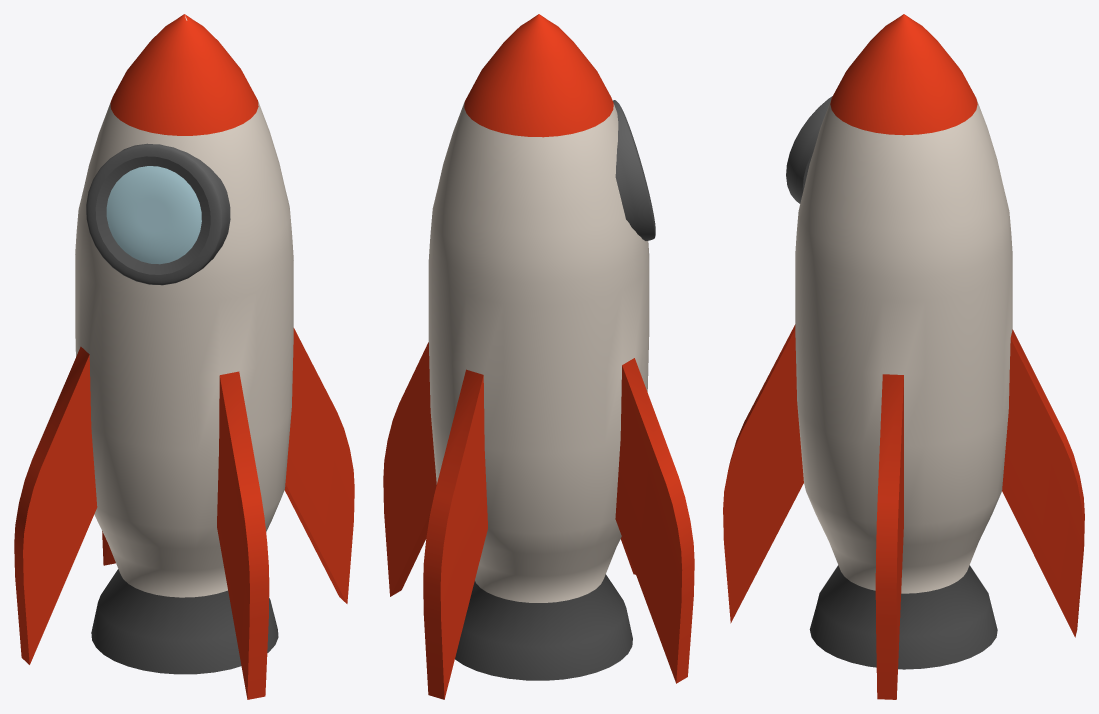
File: rocket.fbx
The picture shows the model from 3 angles, left to right: view 1: azimuth 30°, elevation 25°; view 2: azimuth 150°, elevation 25°; view 3: azimuth 270°, elevation 25°; orthographic projection.
Parts seen in each view (by area): view 1: Cylinder, Hublot; view 2: Cylinder, Hublot; view 3: Cylinder, Hublot.
Part boxes in pixels (box(x1,y1,x2,y2)): Cylinder: box(14, 14, 354, 699); Hublot: box(86, 143, 230, 285); Cylinder: box(383, 14, 694, 699); Hublot: box(613, 100, 655, 240); Cylinder: box(723, 14, 1084, 699); Hublot: box(786, 96, 832, 203).
Size of the model in its own units: 507 by 953 by 507.
